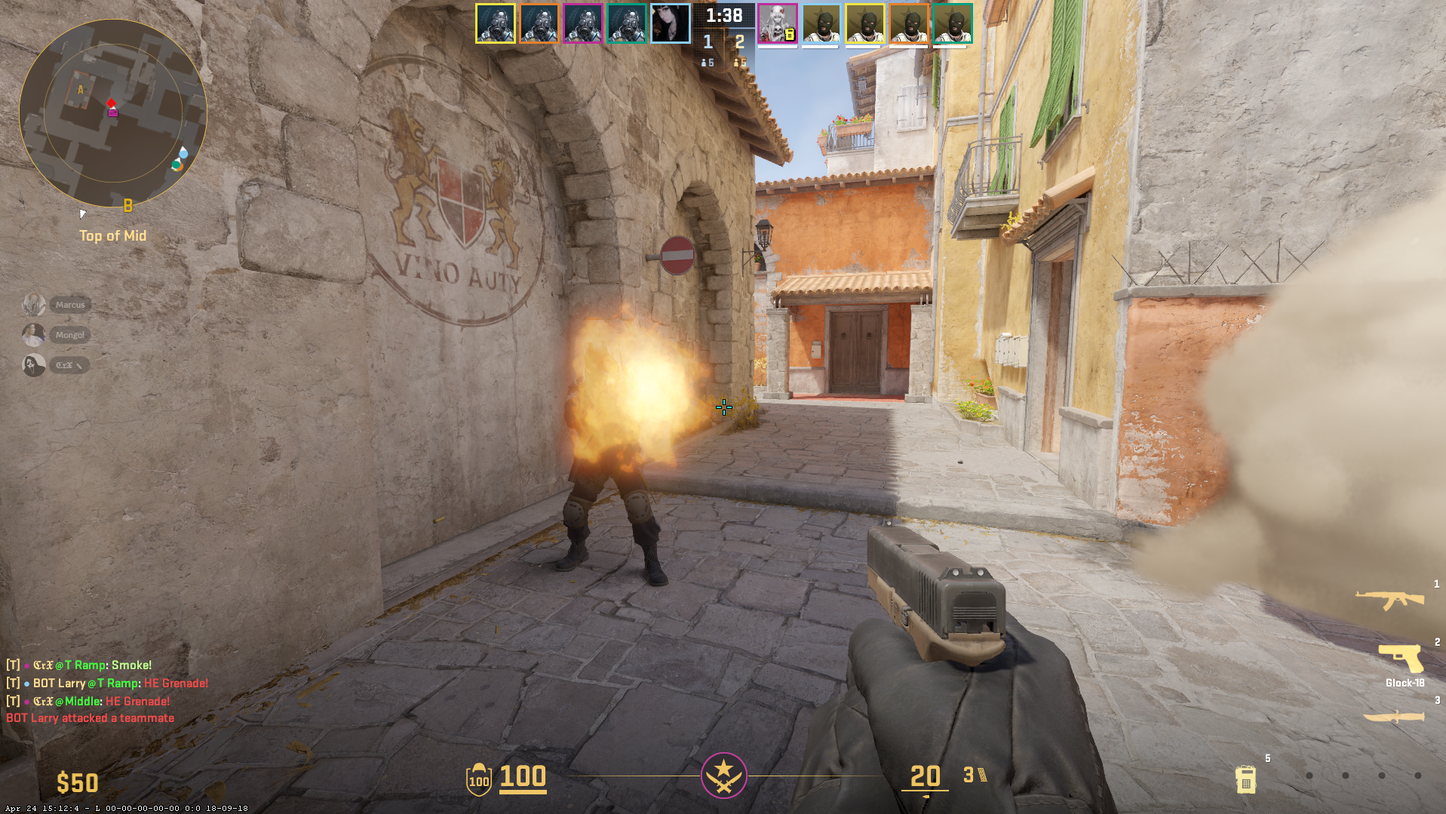CT: (551, 352, 667, 585)
